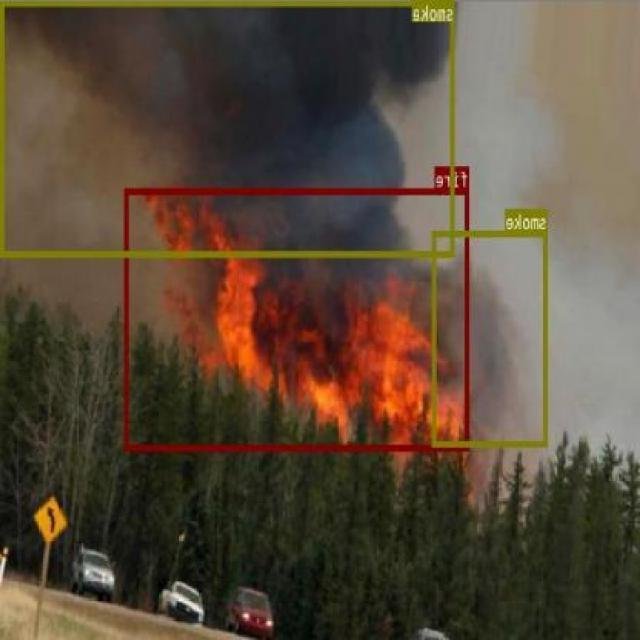Fire: (125, 186, 470, 449)
Smoke: (2, 0, 456, 254), (433, 230, 549, 447)
